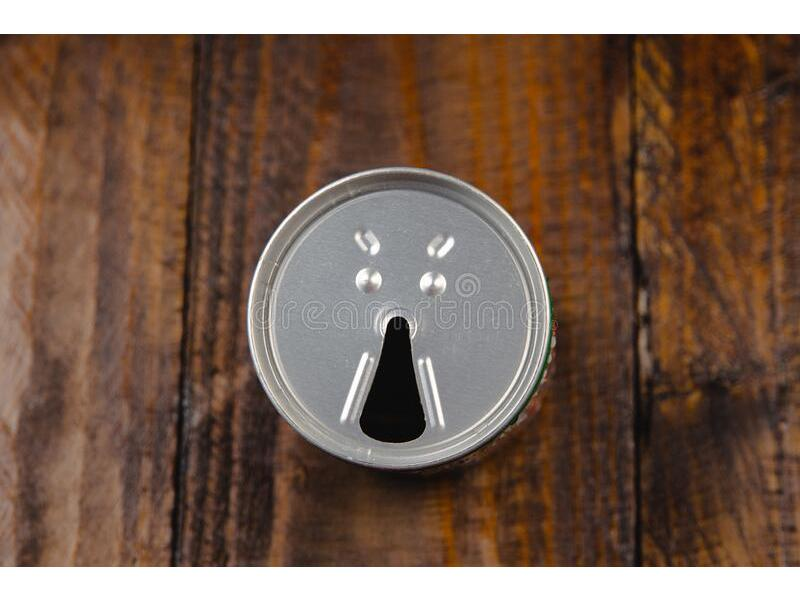can: (241, 153, 569, 492)
